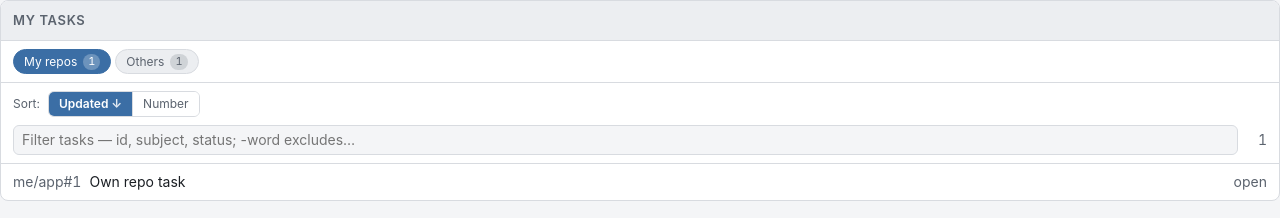
TaskColumn › scope tabs (My repos / Others) › switches to Others to show only repos the user does not own
Click the button "Others 1" at (157, 62), box left=115, top=49, right=199, bottom=74
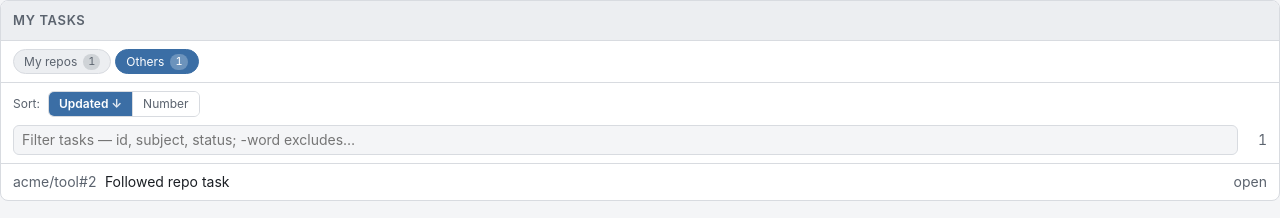
Result: the text "Followed repo task" is shown at left=105, top=173, right=230, bottom=190
Result: the text "Own repo task" is gone
